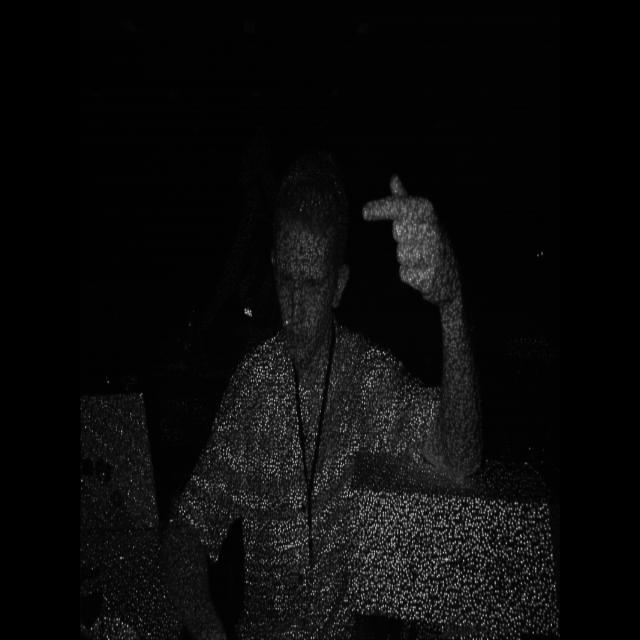G: (353, 159, 467, 317)
